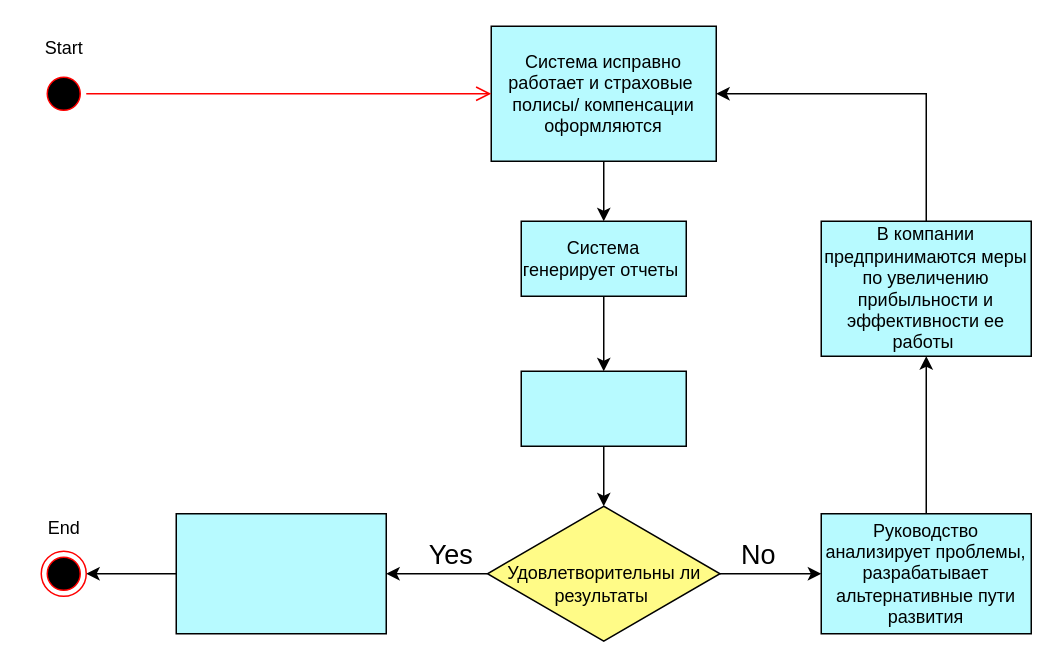
This 1058x668 diagram has some shape labels left out. Each missing label, with the centre of its shape:
"Компания продолжает текущую политику и работает в том же направлении" belongs at point 280,573.
"Отчеты проверяются руководством" belongs at point 603,408.
